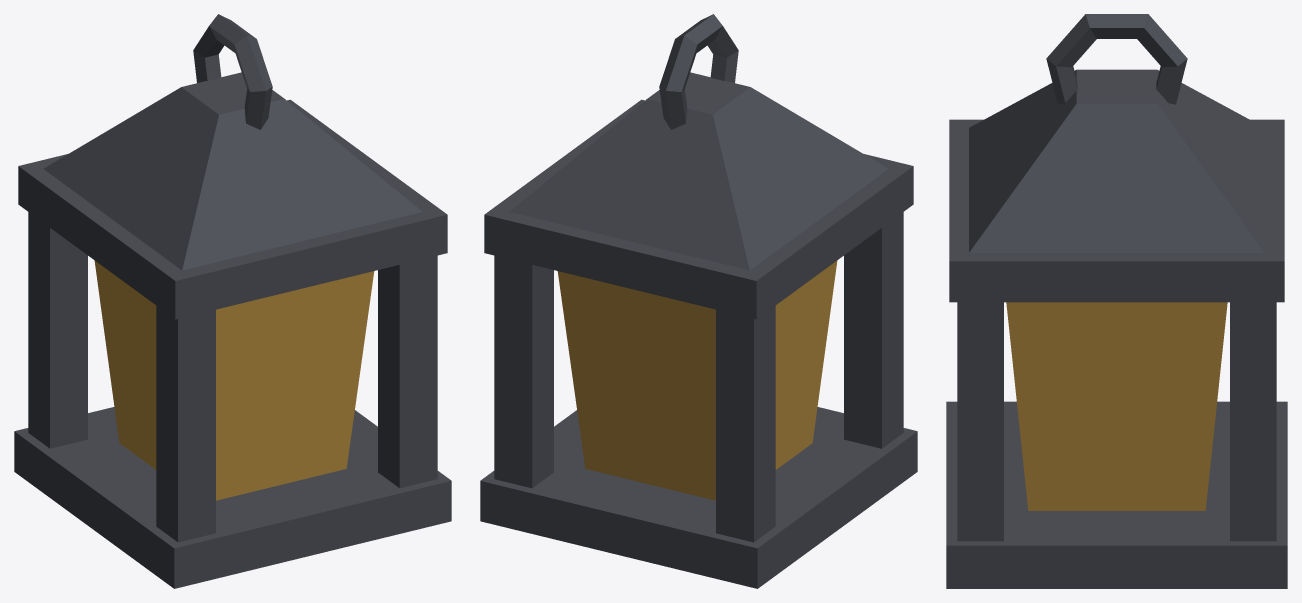
The model's file is Lantern.fbx.
The picture shows the model from 3 angles, left to right: view 1: azimuth 30°, elevation 25°; view 2: azimuth 150°, elevation 25°; view 3: azimuth 270°, elevation 25°; orthographic projection. The views are drawn at different scales.
Visible parts, largest first — view 1: Cube; view 2: Cube; view 3: Cube.
Boxes of the visible parts, <box> form: Cube: <box>14,14,451,588</box>; Cube: <box>480,14,917,588</box>; Cube: <box>946,14,1287,588</box>.
Bounding box in the file's own units: 65.9 × 107 × 65.9.
